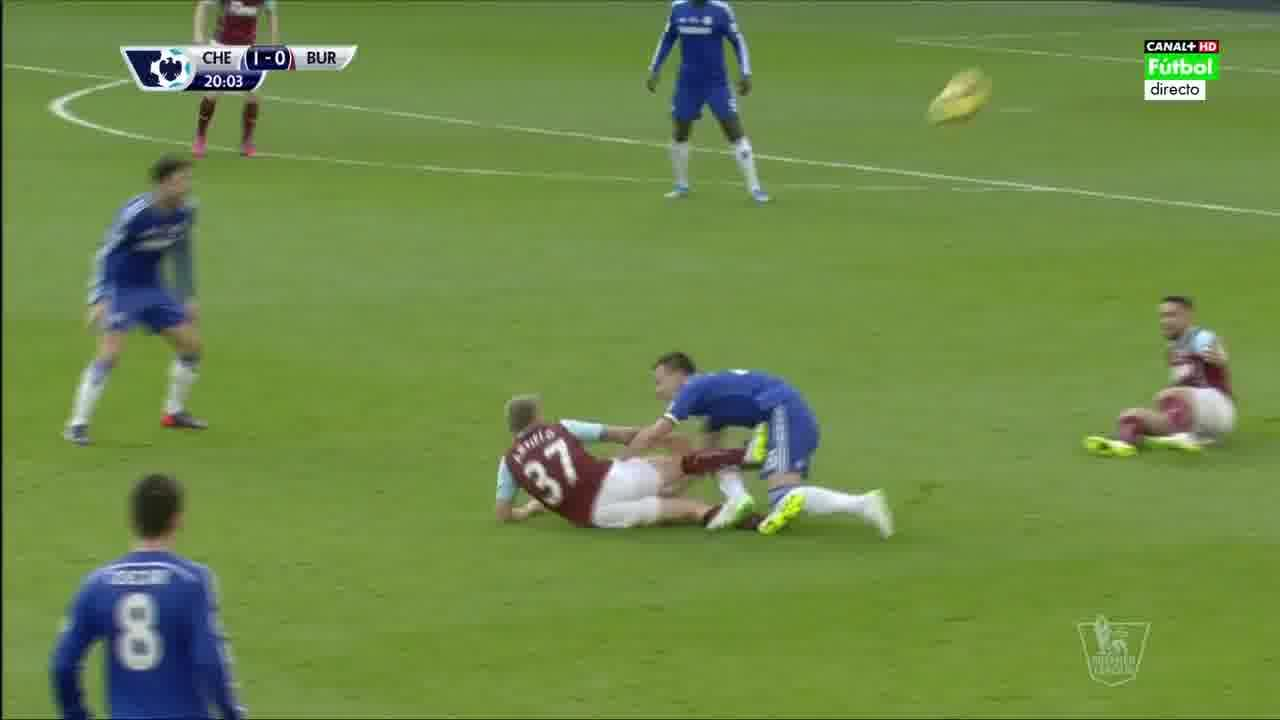football: (926, 70, 992, 129)
